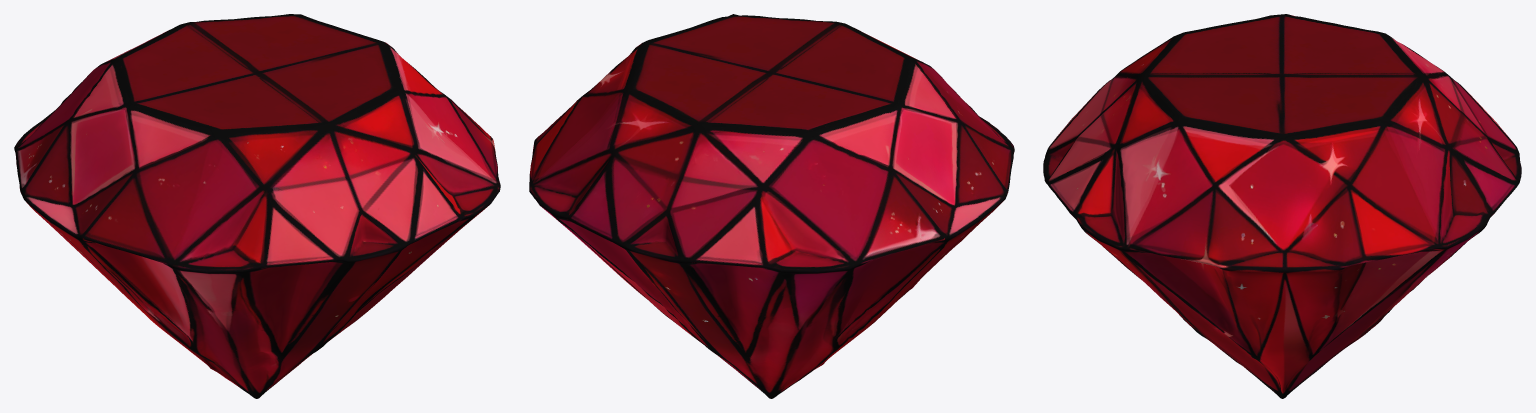
File: red diamond.fbx
3 views of the same model, side by side, from view 1: azimuth 30°, elevation 25°; view 2: azimuth 150°, elevation 25°; view 3: azimuth 270°, elevation 25° (orthographic).
Visible parts, largest first — view 1: tripo_node_1bb46f14; view 2: tripo_node_1bb46f14; view 3: tripo_node_1bb46f14.
Boxes of the visible parts, box(x1,y1,x2,y2) form: tripo_node_1bb46f14: box(14, 14, 500, 398); tripo_node_1bb46f14: box(529, 14, 1014, 398); tripo_node_1bb46f14: box(1043, 14, 1521, 398).
Bounding box in the file's own units: 0.9966 × 0.7443 × 0.9981.
